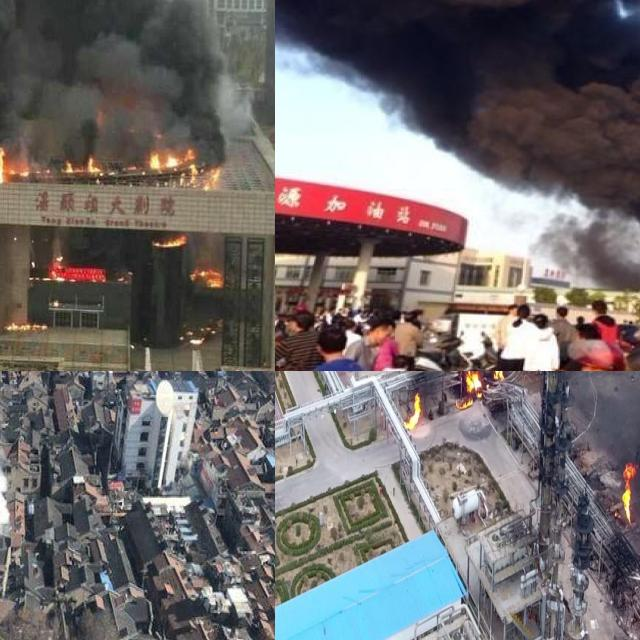fire: (145, 144, 219, 185), (452, 371, 482, 407), (619, 461, 635, 524), (3, 314, 48, 332), (67, 154, 102, 177), (404, 390, 422, 431), (192, 264, 223, 287), (154, 233, 186, 249), (63, 158, 86, 174), (0, 146, 8, 181), (63, 158, 75, 173), (491, 371, 503, 380)
smoke: (275, 0, 640, 266), (0, 0, 250, 155)
